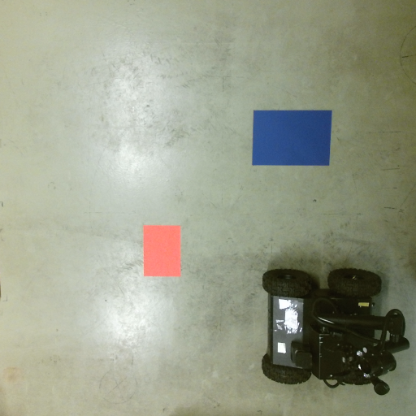Blue: (252, 109, 333, 167)
Jaguar: (259, 266, 411, 398)
Red: (140, 223, 184, 279)
